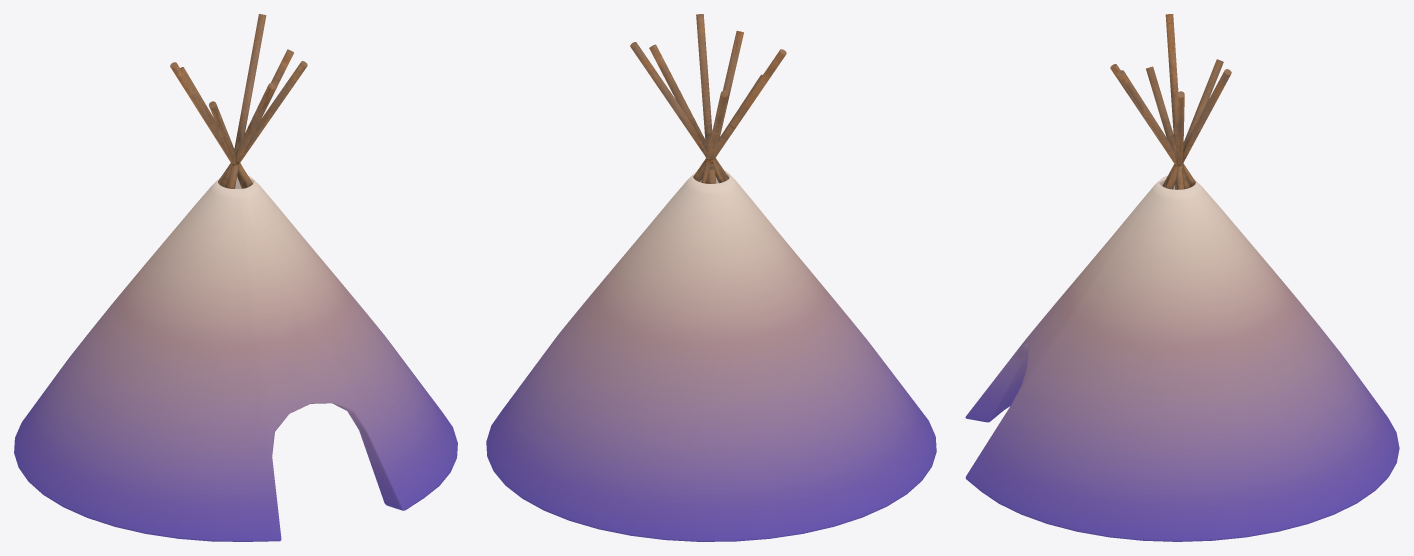
Rendered from tipi.glb.
3 views of the same model, side by side, from view 1: azimuth 30°, elevation 25°; view 2: azimuth 150°, elevation 25°; view 3: azimuth 270°, elevation 25° (orthographic).
Visible parts, largest first — view 1: Tipi_geo; view 2: Tipi_geo; view 3: Tipi_geo.
Part boxes in pixels (x1,y1,x2,y2): Tipi_geo: (14,14,457,541); Tipi_geo: (486,14,936,541); Tipi_geo: (965,14,1399,541).
Size of the model in its own units: 3.75 by 3.82 by 3.67.
Materials: 1 (1 with a texture image).
